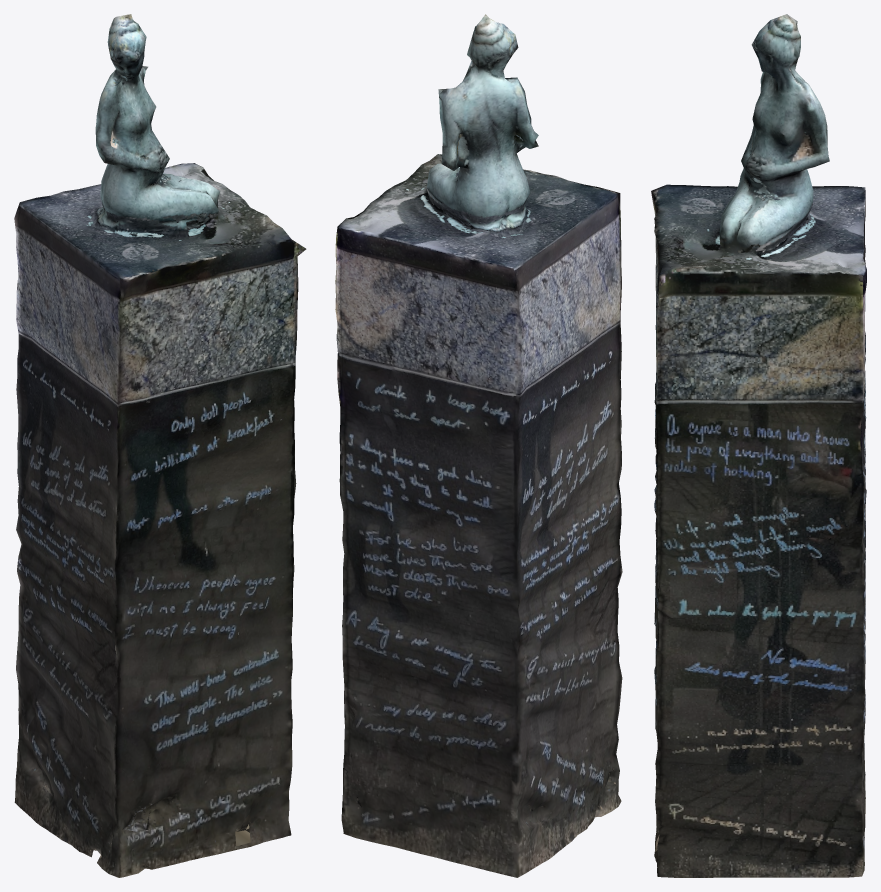
Rendered from constancelloydfinal.glb.
3 renders of one model, left to right at view 1: azimuth 30°, elevation 25°; view 2: azimuth 150°, elevation 25°; view 3: azimuth 270°, elevation 25°, orthographic.
Visible parts, largest first — view 1: constancelloyd_lp; view 2: constancelloyd_lp; view 3: constancelloyd_lp.
Part boxes in pixels (<box>): constancelloyd_lp: <box>14,14,306,877</box>; constancelloyd_lp: <box>335,14,622,877</box>; constancelloyd_lp: <box>651,14,866,877</box>.
Size of the model in its own units: 0.4838 by 1.91 by 0.4605.
Materials: 1 (1 with a texture image).
